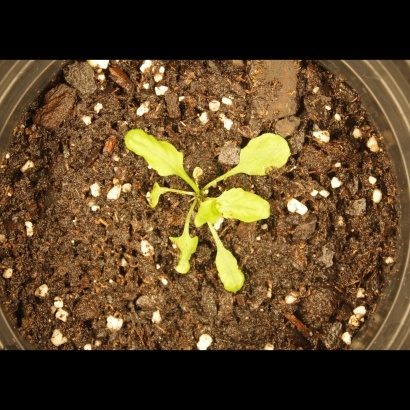leaf: (122, 126, 194, 180), (231, 128, 297, 178), (214, 185, 280, 225), (161, 226, 200, 285), (208, 241, 247, 299), (136, 176, 173, 212), (192, 196, 224, 228)
